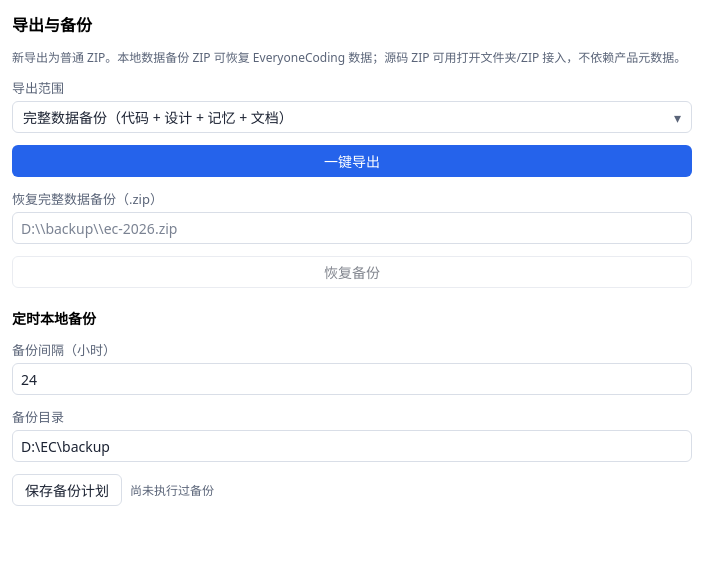
it: 导出与备份（FR-SET-04） › 导入归档展示记忆/文档/代码计数与冲突数
Type "D:/backup/a.zip" into the field named "备份 ZIP 路径".
click(352, 228); type("D:/backup/a.zip")  # box [21,213,683,243]
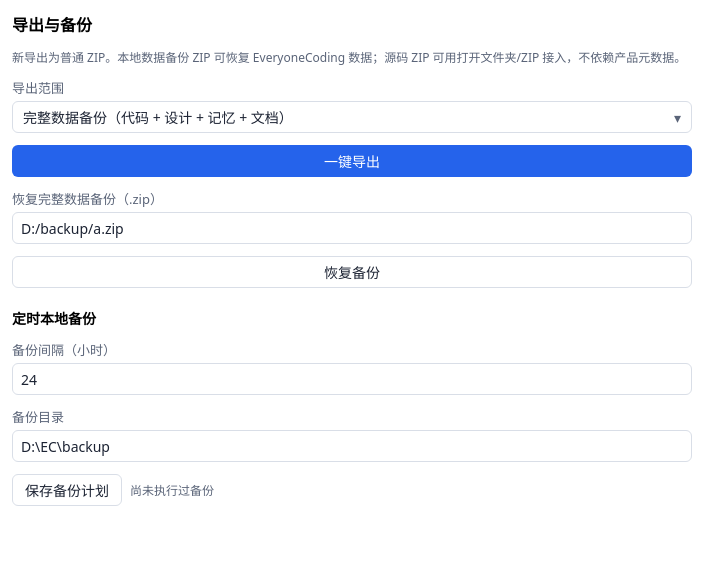
Click the button "恢复备份".
click(352, 272)  # box [12,256,692,288]
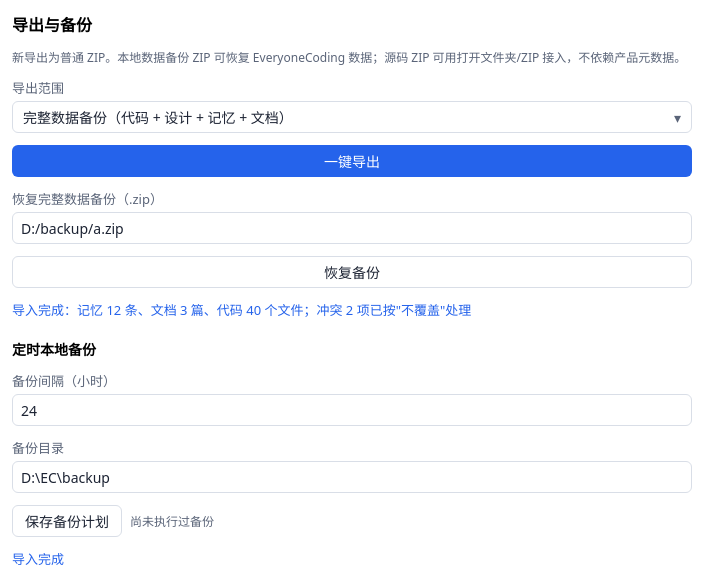
Now the text "导入完成：记忆 12 条、文档 3 篇、代码 40 个文件；冲突 2 项已按\"不覆盖\"处理" is shown, box [12,301,471,319]
